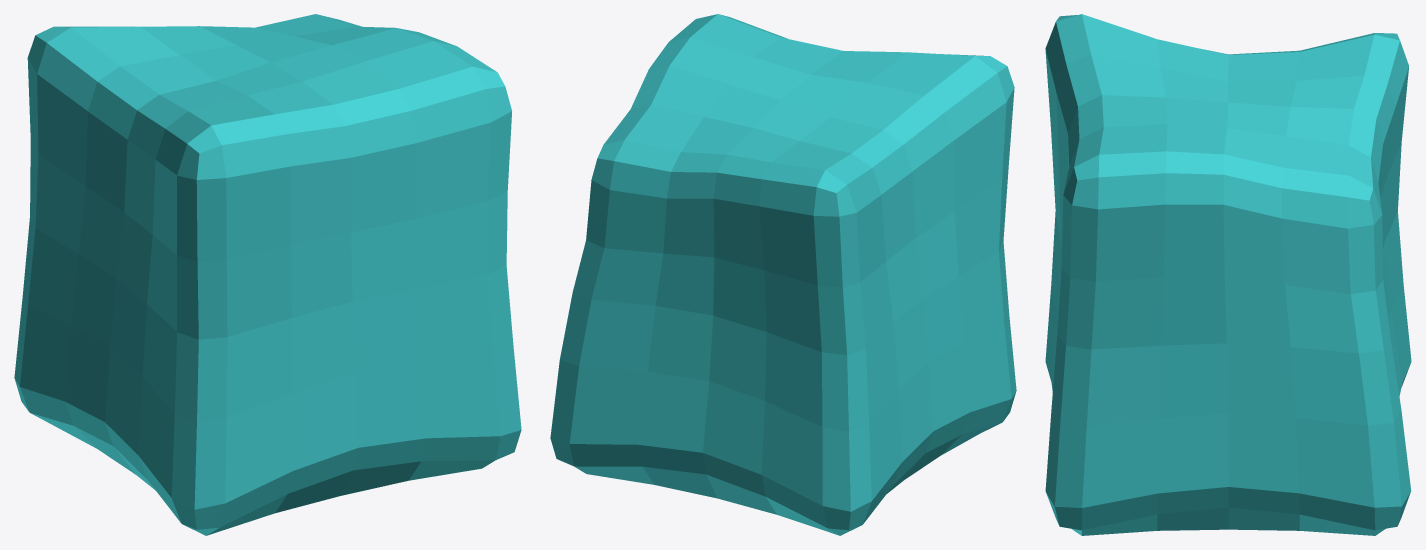
File: IceCube_01.fbx
3 views of the same model, side by side, from view 1: azimuth 30°, elevation 25°; view 2: azimuth 150°, elevation 25°; view 3: azimuth 270°, elevation 25° (orthographic). The views are drawn at different scales.
Visible parts, largest first — view 1: Ice_Cube; view 2: Ice_Cube; view 3: Ice_Cube.
Part boxes in pixels (x1,y1,x2,y2): Ice_Cube: (14,14,521,535); Ice_Cube: (550,14,1016,535); Ice_Cube: (1045,14,1411,535).
Size of the model in its own units: 193 by 219 by 184.
